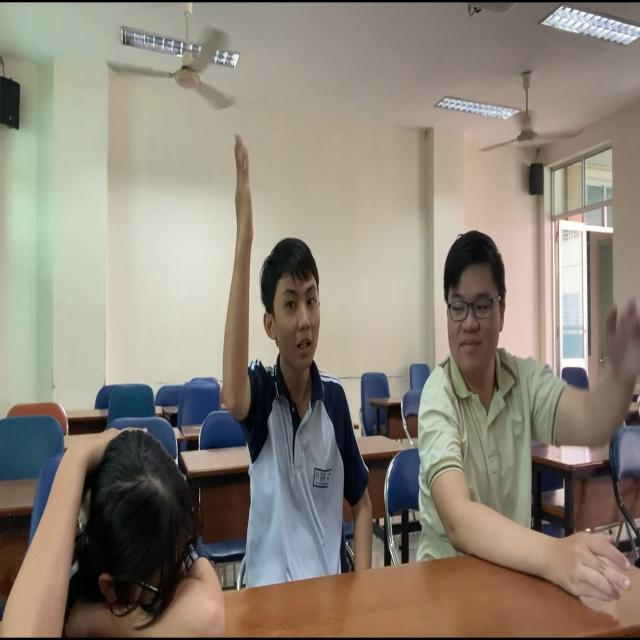raise_hand: (224, 132, 374, 586)
sleep: (1, 424, 226, 640)
